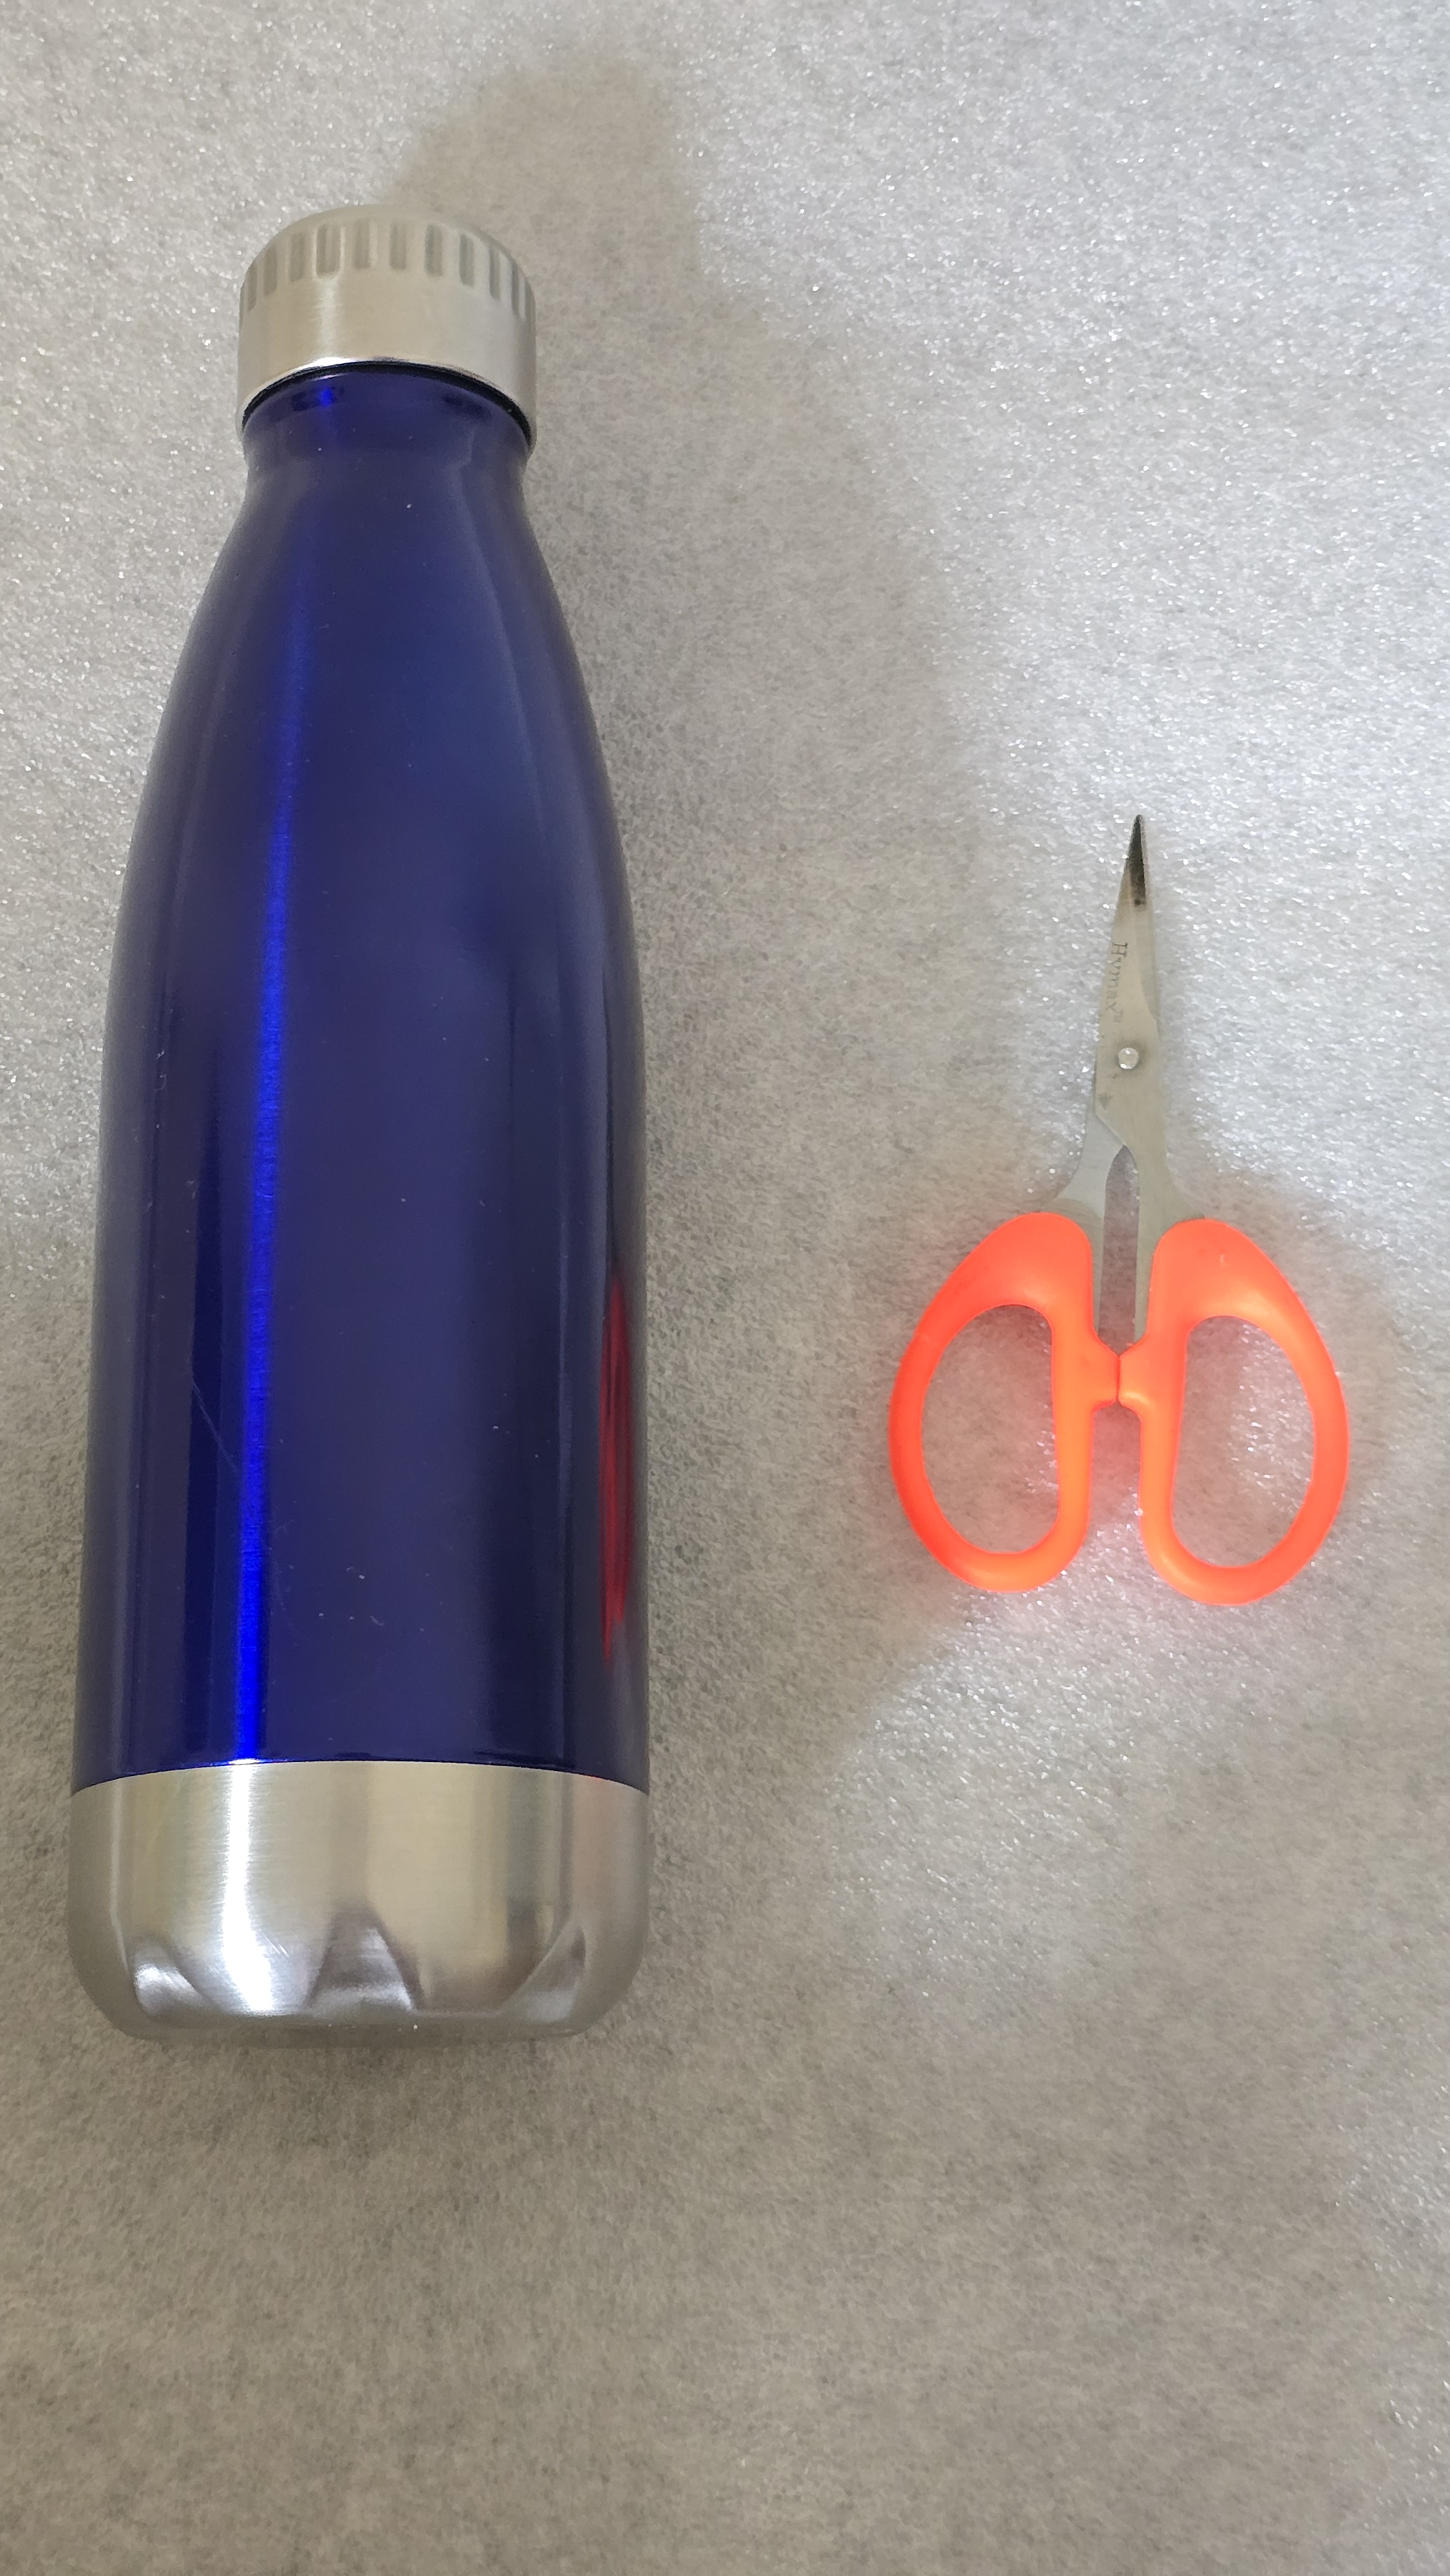bottle: (67, 180, 675, 2095)
